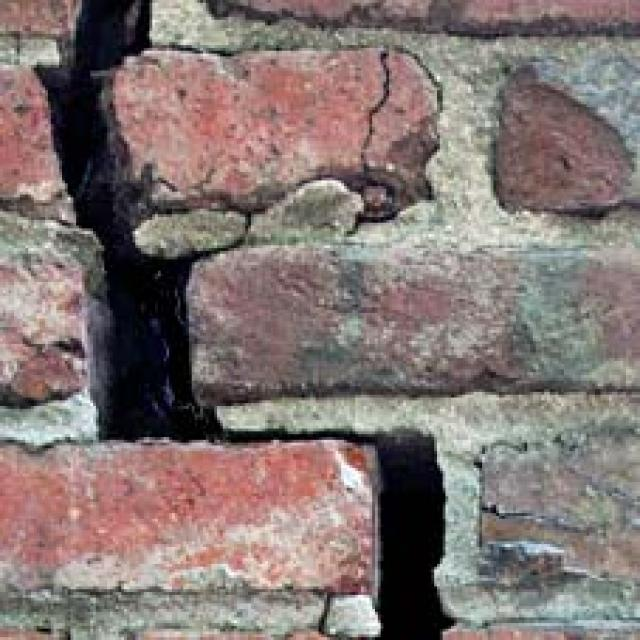Crack: (0, 2, 510, 637)
